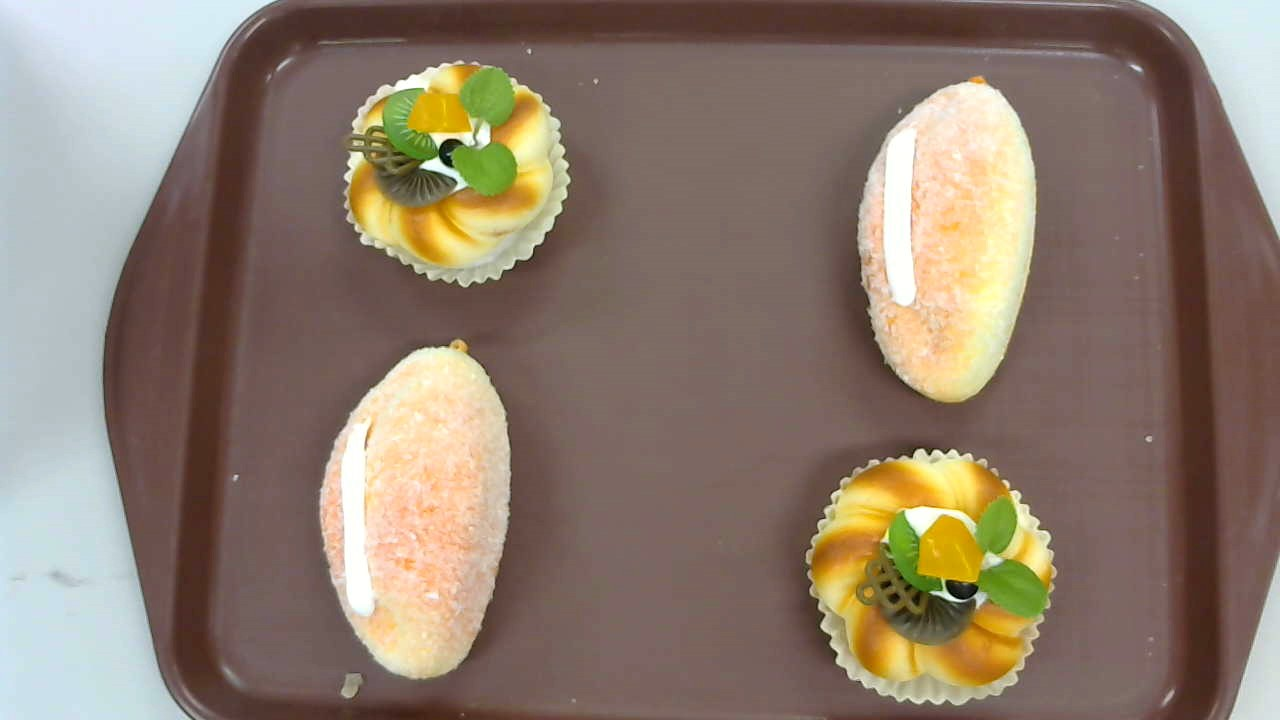coconut: (318, 340, 510, 680), (856, 77, 1038, 404)
fruit tart: (805, 447, 1057, 707), (344, 59, 572, 287)
